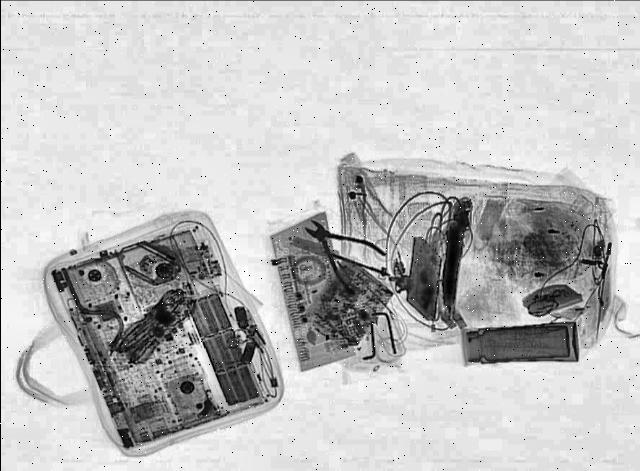Pliers: (281, 208, 405, 296)
